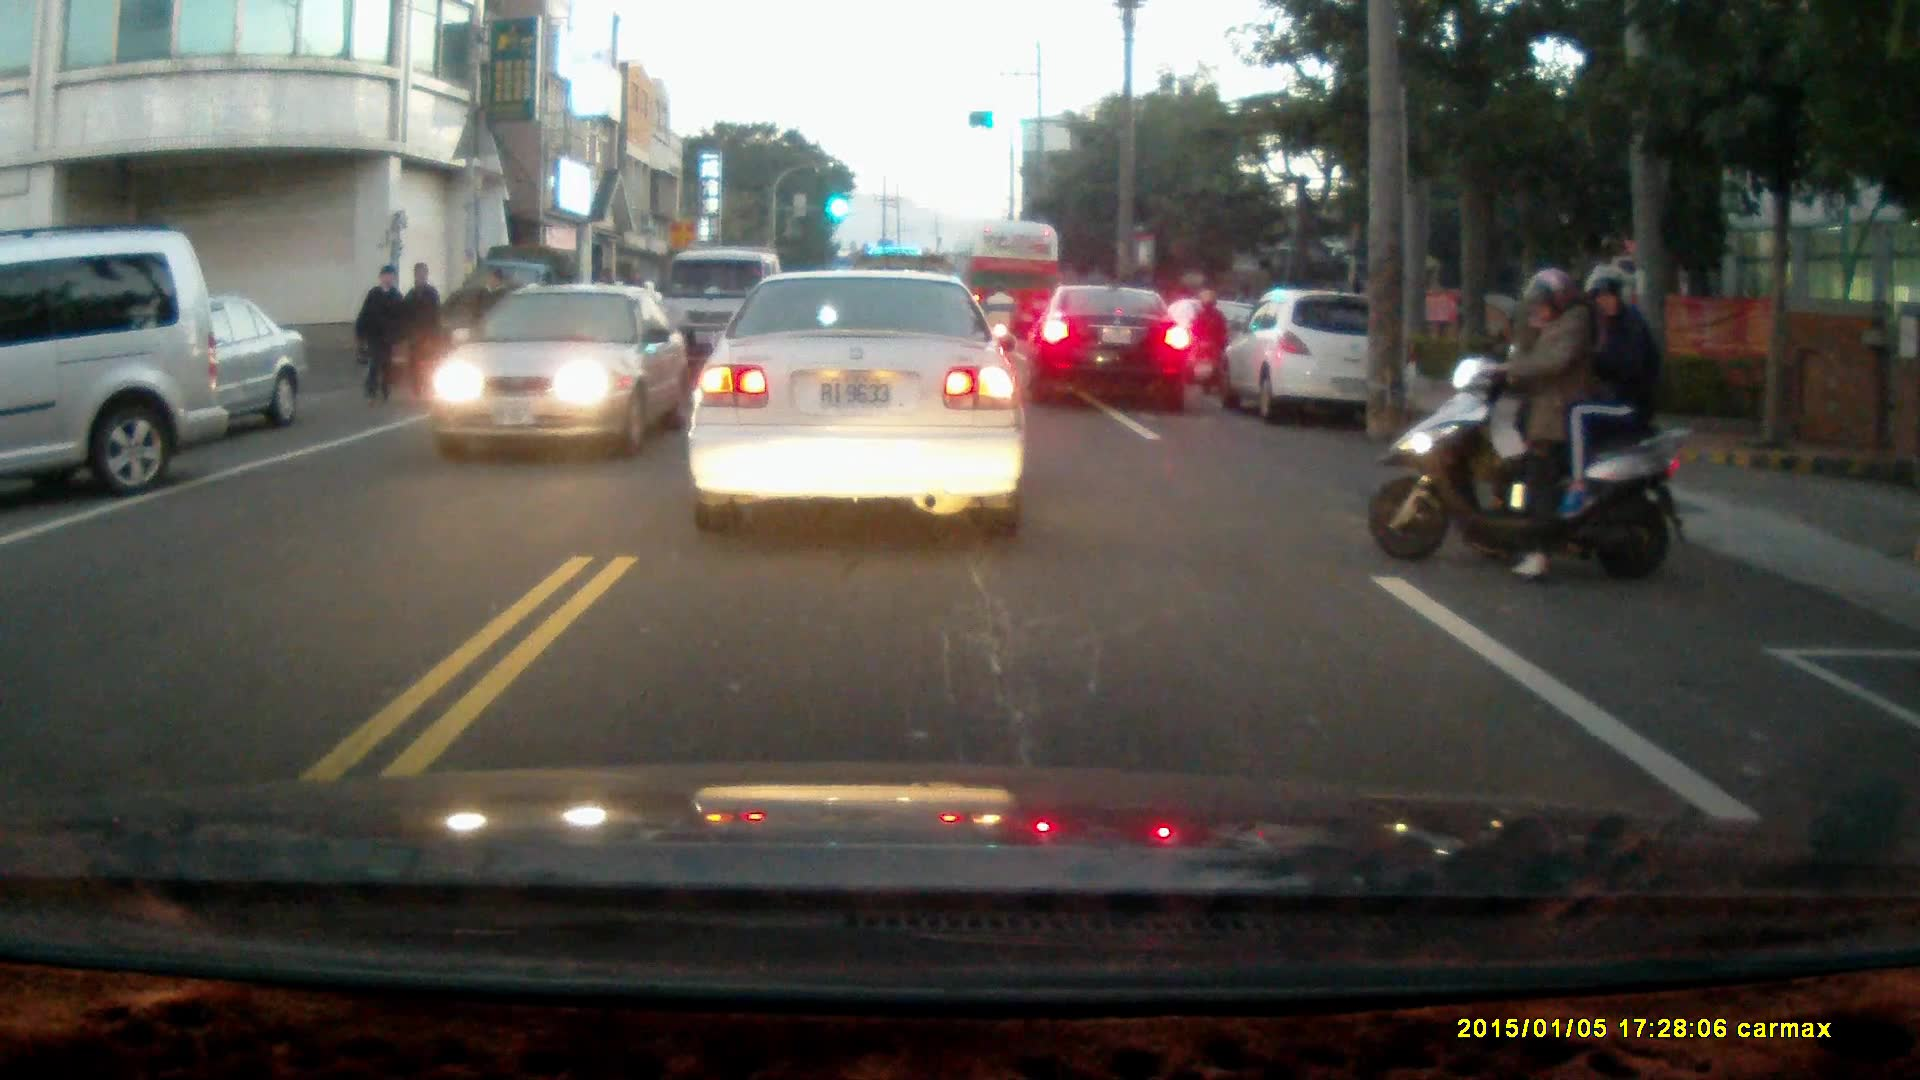pedestrian: (351, 260, 407, 411), (399, 259, 442, 395)
rider: (1369, 263, 1698, 585), (1184, 290, 1230, 398), (980, 284, 1019, 361)
vehicle: (687, 264, 1030, 538), (1, 222, 224, 502), (430, 284, 692, 464), (32, 289, 311, 435), (1223, 287, 1422, 430), (1026, 288, 1198, 414), (662, 247, 787, 379), (960, 219, 1065, 355)
